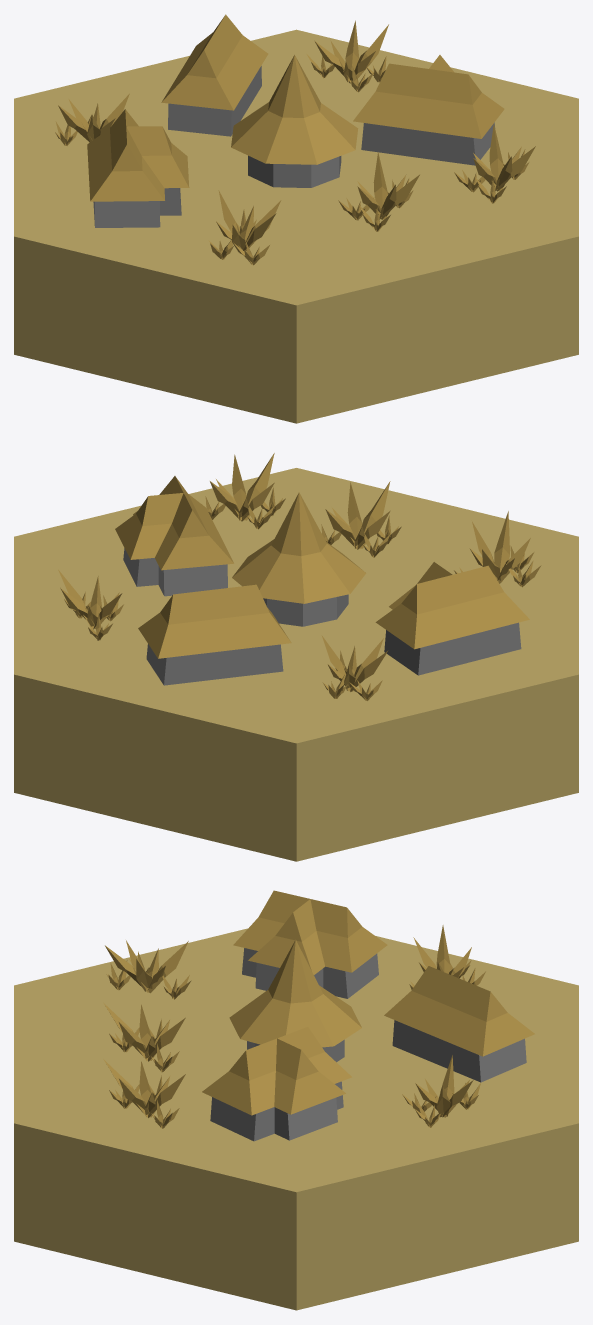
The model's file is Casas_Arido_4.fbx.
3 renders of one model, top to bottom at view 1: azimuth 30°, elevation 25°; view 2: azimuth 150°, elevation 25°; view 3: azimuth 270°, elevation 25°, orthographic.
Visible parts, largest first — view 1: Casas_Arido_4; view 2: Casas_Arido_4; view 3: Casas_Arido_4.
Boxes of the visible parts, x1,y1,x2,y2 form: Casas_Arido_4: (14,14,578,423); Casas_Arido_4: (14,453,578,861); Casas_Arido_4: (14,890,578,1310).
Bounding box in the file's own units: 200 × 78.5 × 173.
